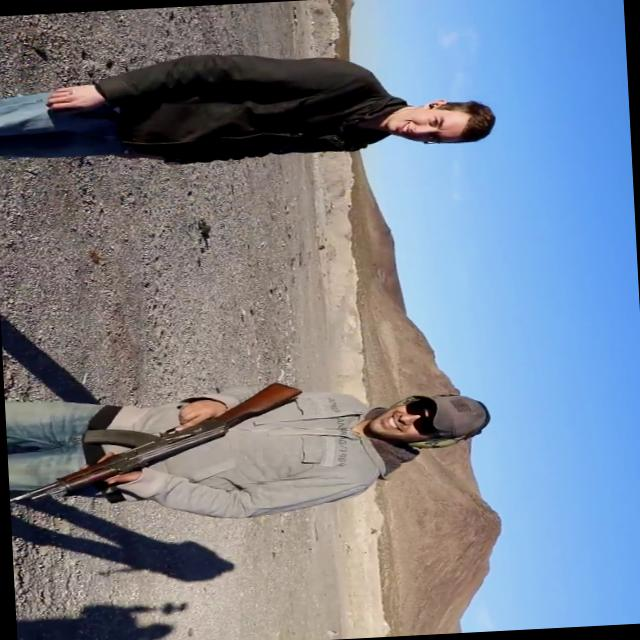long weapon: (6, 378, 310, 512)
